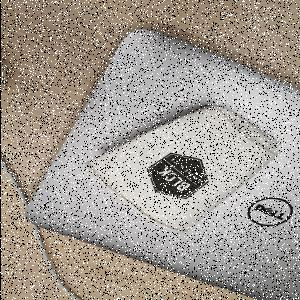Cup: (83, 105, 284, 235)
